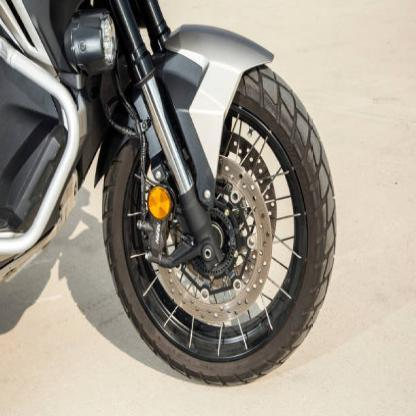Motorcycle: (0, 0, 339, 394)
